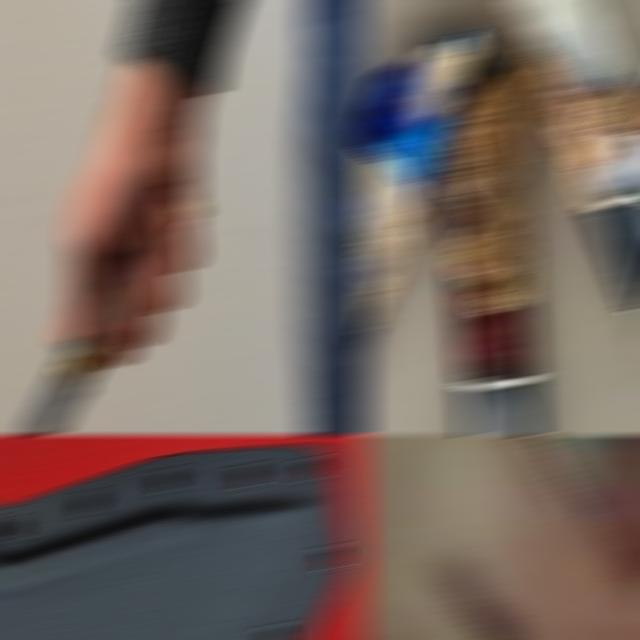Knife: (0, 274, 132, 434)
Knife_Handle: (0, 132, 198, 434), (404, 577, 640, 639)
